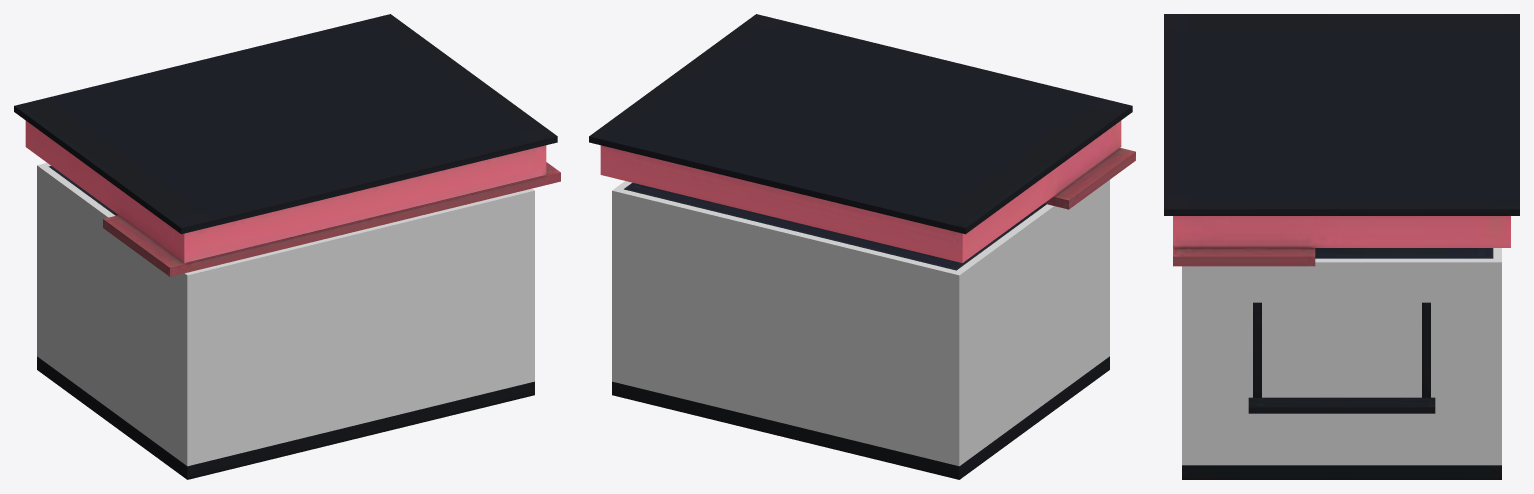
File: ticket_booth.glb
3 renders of one model, left to right at view 1: azimuth 30°, elevation 25°; view 2: azimuth 150°, elevation 25°; view 3: azimuth 270°, elevation 25°, orthographic. The views are drawn at different scales.
Parts seen in each view (by area): view 1: COL_Body, TicketBooth; view 2: COL_Body, TicketBooth; view 3: TicketBooth, COL_Body.
Boxes of the visible parts, x1,y1,x2,y2 form: COL_Body: (37, 163, 534, 466); TicketBooth: (14, 14, 560, 479); COL_Body: (612, 180, 1109, 466); TicketBooth: (589, 14, 1135, 479); TicketBooth: (1164, 14, 1519, 479); COL_Body: (1182, 248, 1501, 465).
Size of the model in its own units: 5.4 by 3.45 by 4.
Materials: 5 (5 with a texture image).
